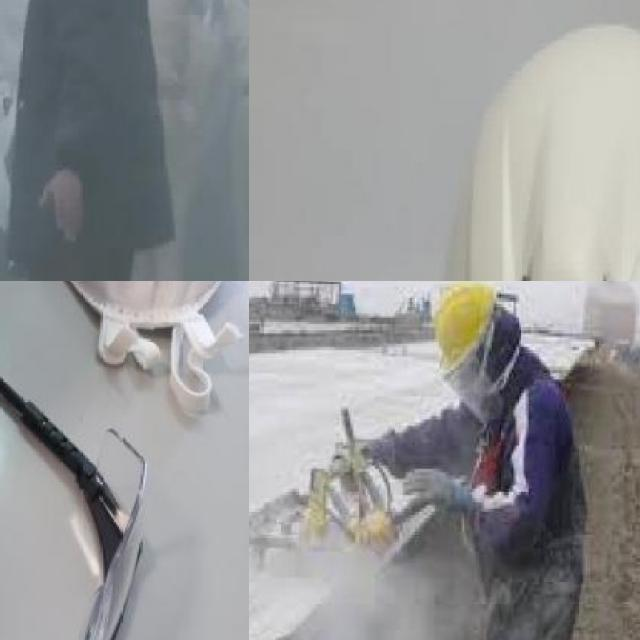apron: (404, 460, 470, 520)
